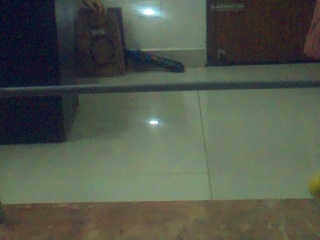ball: (308, 174, 319, 198)
